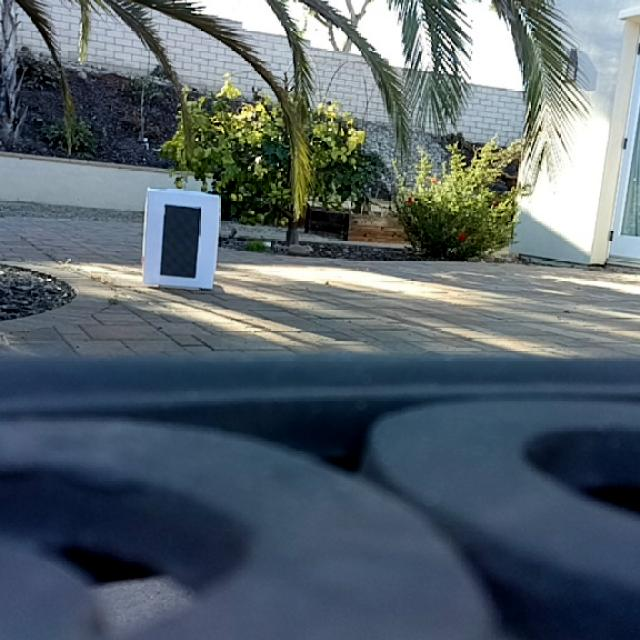led: (160, 203, 201, 280)
